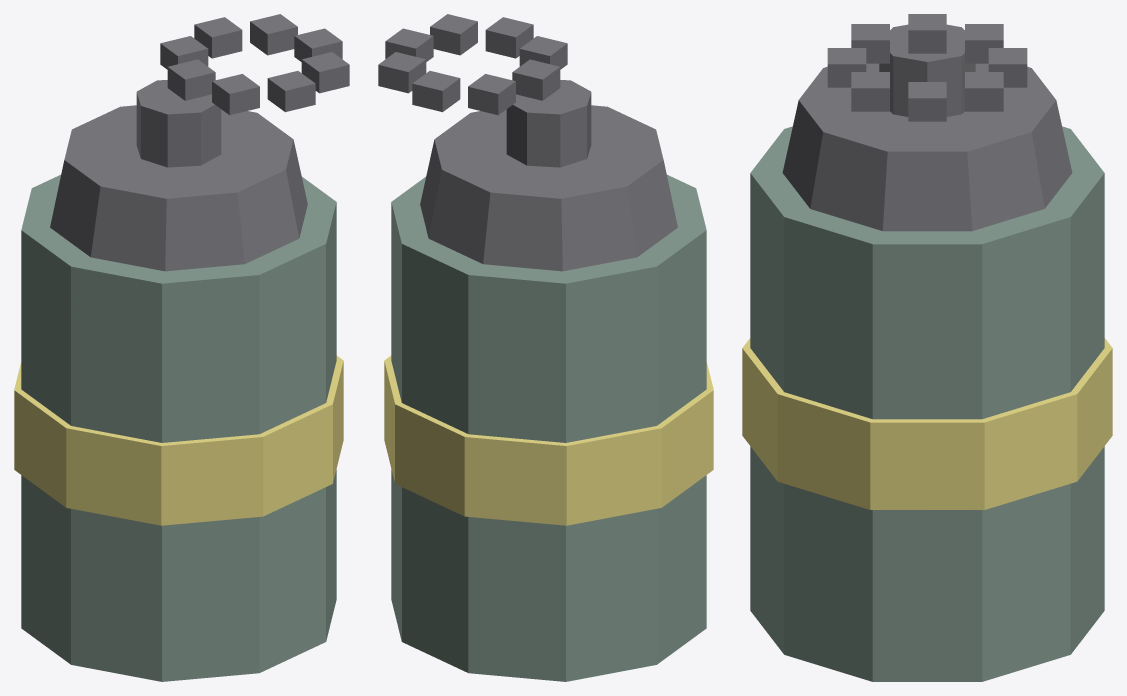
File: SmokeBomb.glb
3 views of the same model, side by side, from view 1: azimuth 30°, elevation 25°; view 2: azimuth 150°, elevation 25°; view 3: azimuth 270°, elevation 25° (orthographic). The views are drawn at different scales.
Parts seen in each view (by area): view 1: SmokeBomb; view 2: SmokeBomb; view 3: SmokeBomb.
Boxes of the visible parts, x1,y1,x2,y2 form: SmokeBomb: (14, 14, 349, 681); SmokeBomb: (378, 14, 713, 681); SmokeBomb: (742, 14, 1112, 681).
Bounding box in the file's own units: 0.2314 × 0.408 × 0.23.
